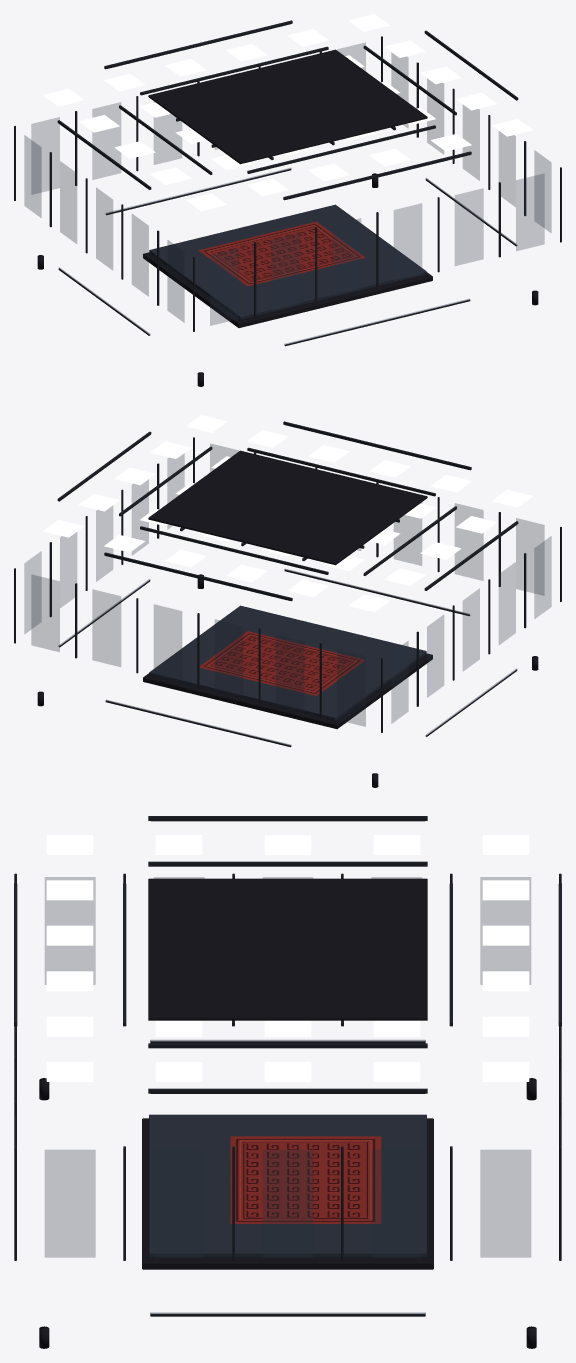
The model's file is room.glb.
3 views of the same model, one above another, from view 1: azimuth 30°, elevation 25°; view 2: azimuth 150°, elevation 25°; view 3: azimuth 270°, elevation 25° (orthographic). The views are drawn at different scales.
Parts seen in each view (by area): view 1: RoofCap, Floor, Rug, Plinth, GlassPane.001, GlassPane.005, GlassPane.009, GlassPane.003, GlassPane.011, GlassPane.007, GlassPane, GlassPane.002 (+15 smaller); view 2: RoofCap, Floor, Rug, Plinth, GlassPane, GlassPane.004, GlassPane.008, GlassPane.002, GlassPane.010, GlassPane.006, GlassPane.001, GlassPane.003 (+15 smaller); view 3: RoofCap, Floor, Rug, GlassPane.012, GlassPane.014, GlassPane.018, GlassPane.020, Plinth, GlassPane.016, GlassPane.013, GlassPane.021, CeilBeam.001 (+27 smaller).
Boxes of the visible parts, x1,y1,x2,y2 form: RoofCap: [148, 49, 427, 164]; Floor: [149, 204, 426, 319]; Rug: [198, 221, 365, 286]; Plinth: [143, 252, 432, 327]; GlassPane.001: [210, 248, 238, 325]; GlassPane.005: [332, 218, 360, 295]; GlassPane.009: [455, 188, 483, 265]; GlassPane.003: [271, 233, 299, 310]; GlassPane.011: [516, 174, 544, 250]; GlassPane.007: [394, 203, 421, 280]; GlassPane: [31, 117, 59, 194]; GlassPane.002: [92, 102, 120, 179]; RoofCap: [148, 450, 427, 565]; Floor: [149, 605, 426, 720]; Rug: [199, 631, 365, 695]; Plinth: [143, 653, 432, 728]; GlassPane: [337, 649, 365, 726]; GlassPane.004: [215, 619, 243, 696]; GlassPane.008: [92, 589, 120, 666]; GlassPane.002: [276, 634, 304, 711]; GlassPane.010: [31, 575, 59, 651]; GlassPane.006: [154, 604, 181, 681]; GlassPane.001: [516, 518, 544, 595]; GlassPane.003: [455, 503, 483, 580]; RoofCap: [148, 878, 427, 1020]; Floor: [149, 1114, 426, 1257]; Rug: [230, 1136, 381, 1223]; GlassPane.012: [45, 1150, 95, 1257]; GlassPane.014: [154, 1150, 204, 1257]; GlassPane.018: [371, 1150, 421, 1257]; GlassPane.020: [480, 1150, 530, 1257]; Plinth: [142, 1118, 433, 1269]; GlassPane.016: [263, 1150, 312, 1257]; GlassPane.013: [45, 877, 95, 984]; GlassPane.021: [480, 877, 530, 984]; CeilBeam.001: [148, 861, 427, 866].
Size of the model in its own units: 9.05 by 4.23 by 7.64.
Materials: 7 (1 with a texture image).
